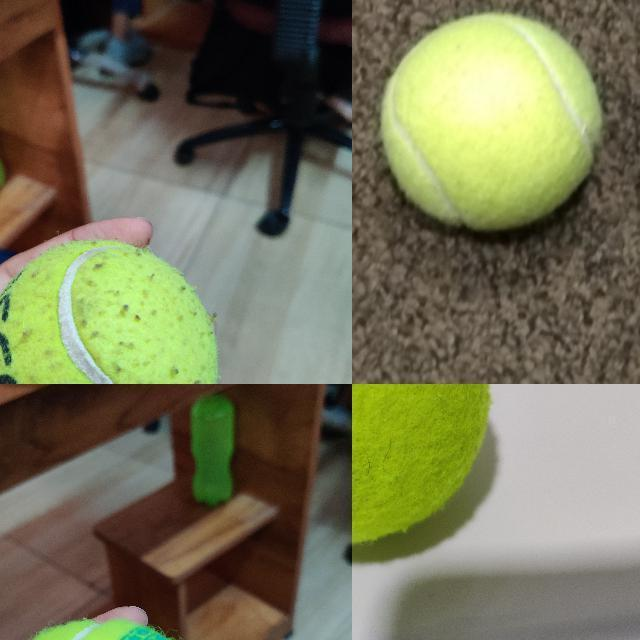tennis-ball: (381, 13, 603, 232), (0, 240, 216, 383), (352, 384, 496, 550)
